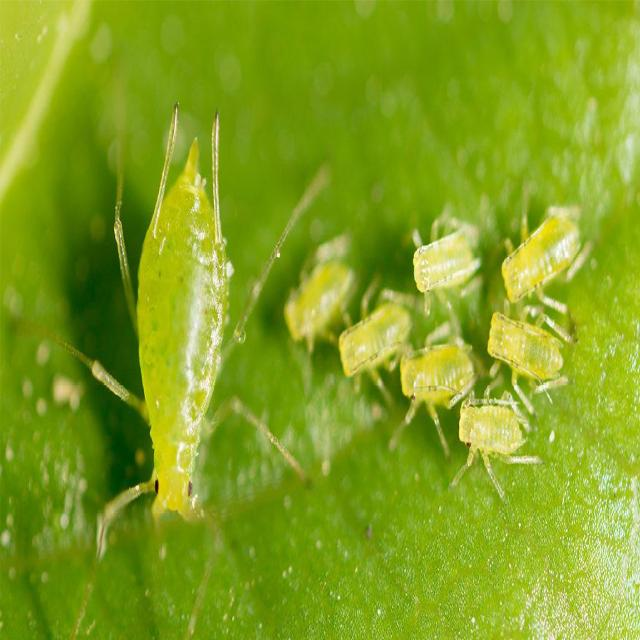Aphids: (95, 63, 291, 547), (391, 306, 483, 448), (480, 289, 575, 421), (334, 278, 419, 413), (498, 193, 596, 310), (451, 387, 537, 514), (406, 210, 486, 310)
